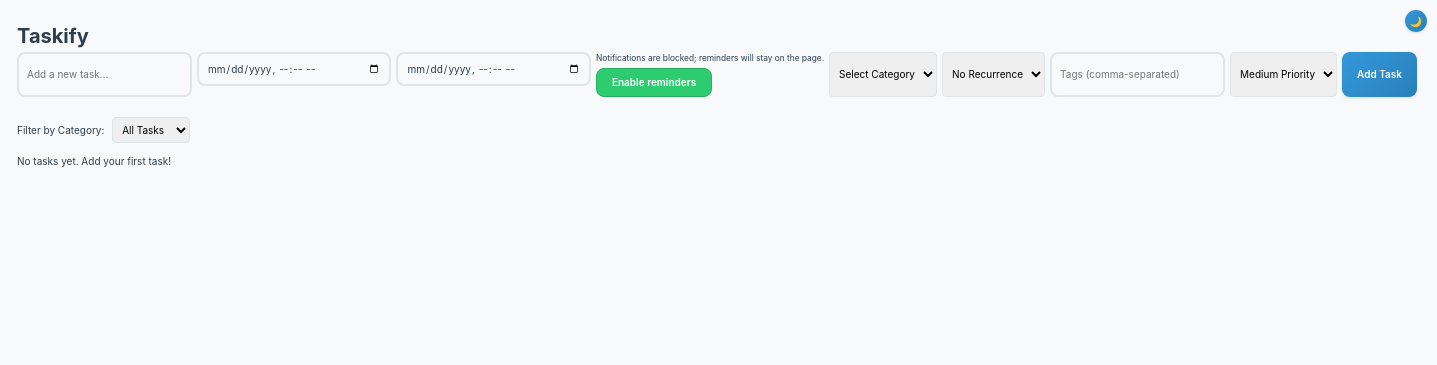
Scenario: App UI interactions › allows notes to be added and persist after toggling
Step 1. Type "Notes coverage" into the field labelled "Add a new task..." → x=104, y=74, box [17,52,192,97]
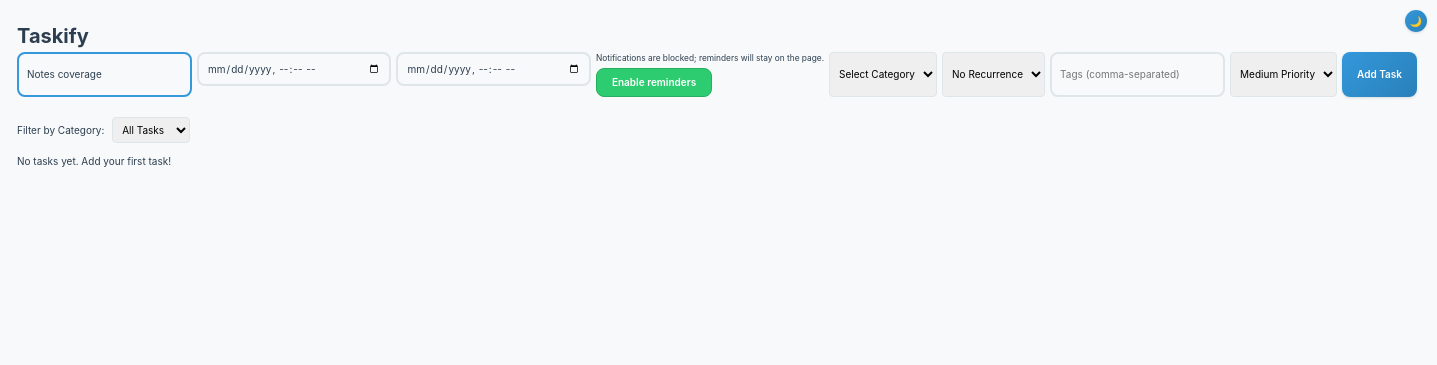
Step 2. Click the button "Add Task" → x=1380, y=74, box [1342,52,1417,97]
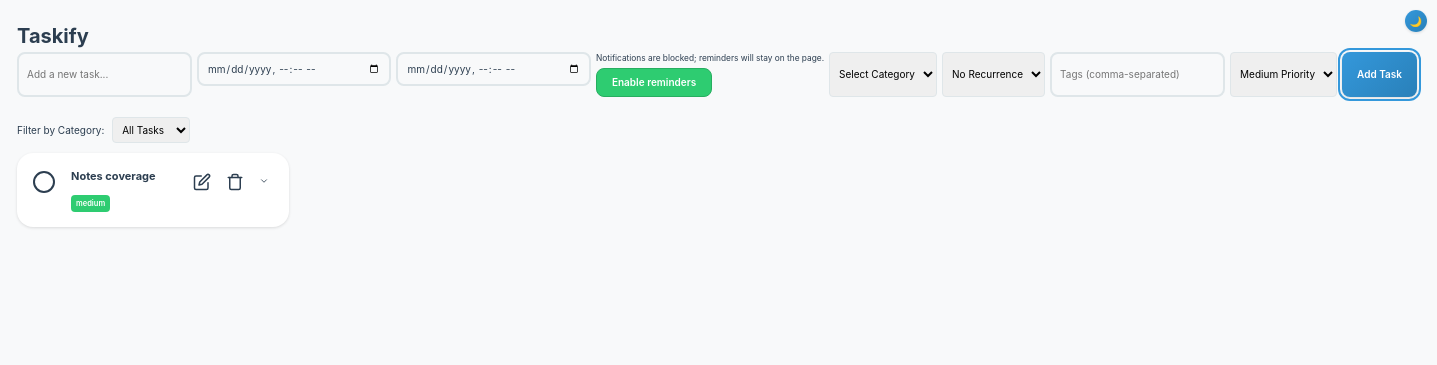
Step 3. Click the button named "Show notes" → x=264, y=182, box [254,171,274,193]
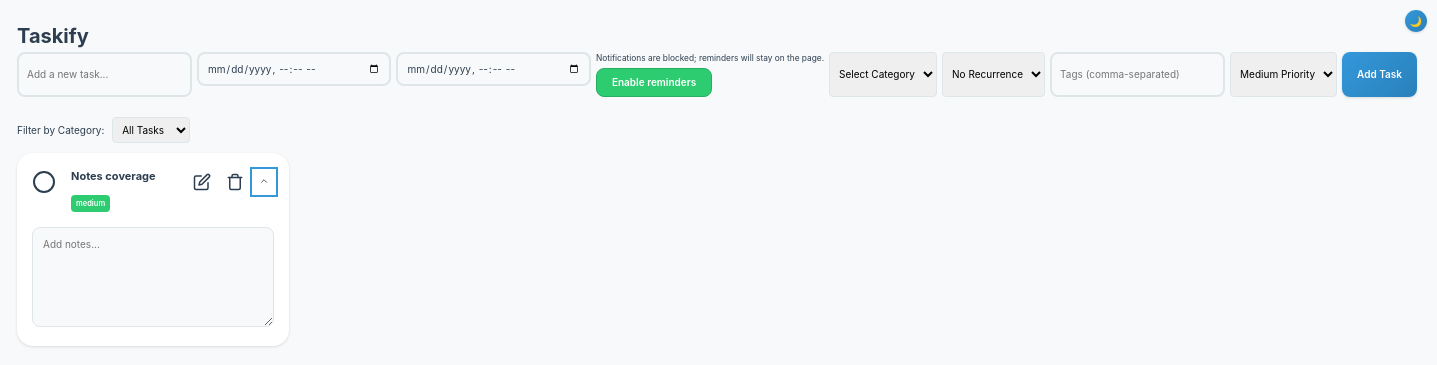
Step 4. Type "Important details" into the text box with placeholder "Add notes..." → x=153, y=277, box [32,227,274,327]
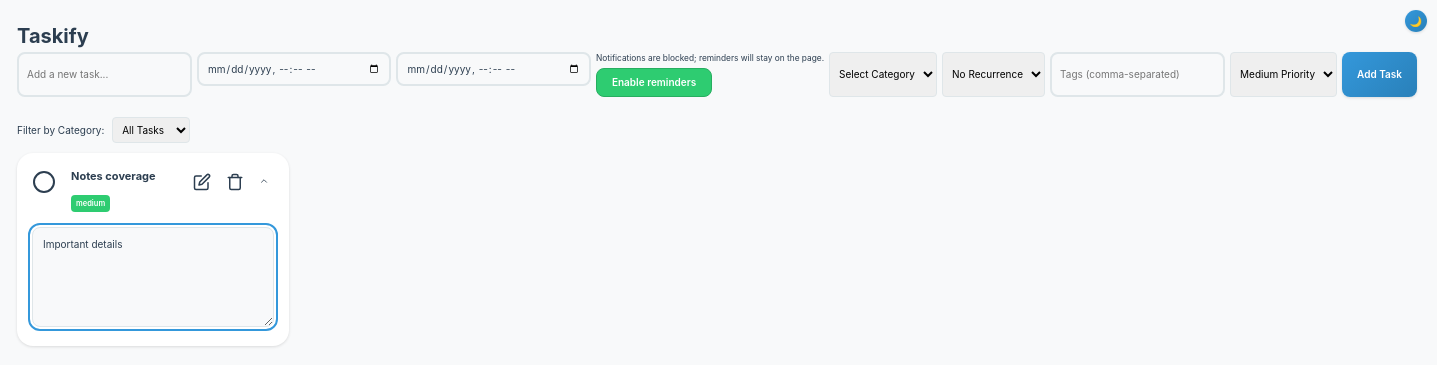
Step 5. Click the button named "Hide notes" → x=264, y=182, box [254,171,274,193]
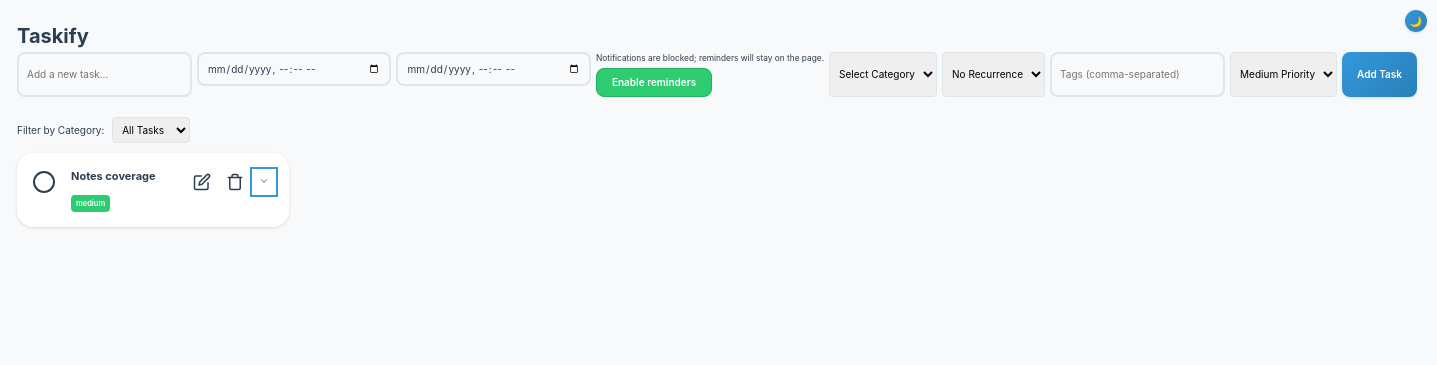
Step 6. Click the button named "Show notes" → x=264, y=182, box [254,171,274,193]
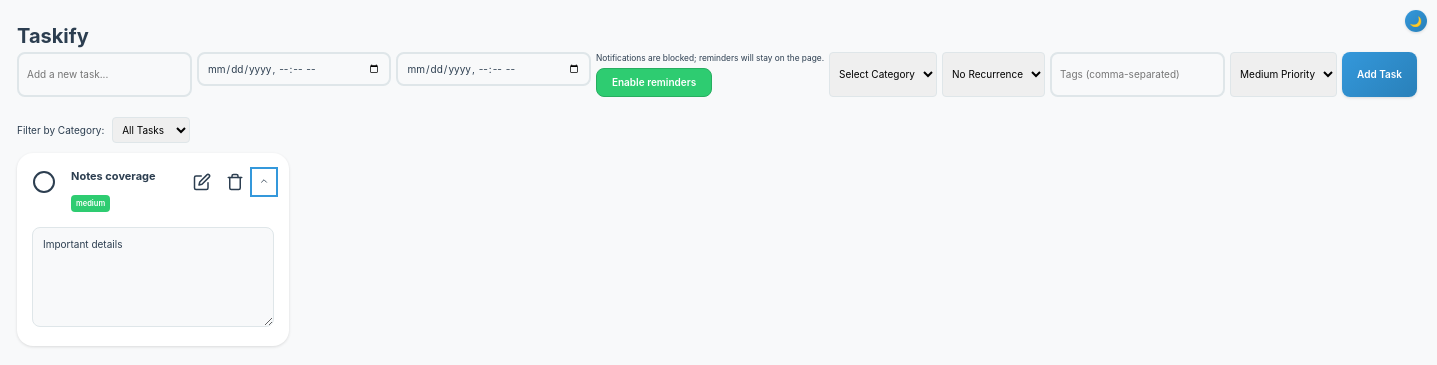
Result: the text box with placeholder "Add notes..." holds "Important details" at [32,227,274,327]
